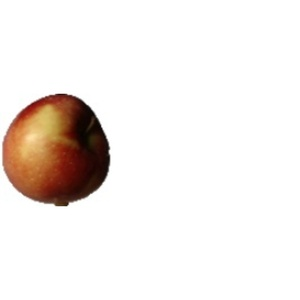maçã braeburn: (2, 90, 116, 206)
